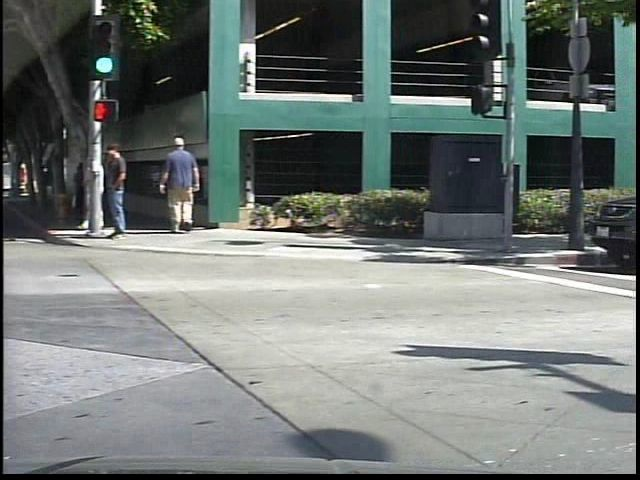person: (163, 135, 217, 236), (106, 138, 144, 245), (88, 144, 113, 232)
